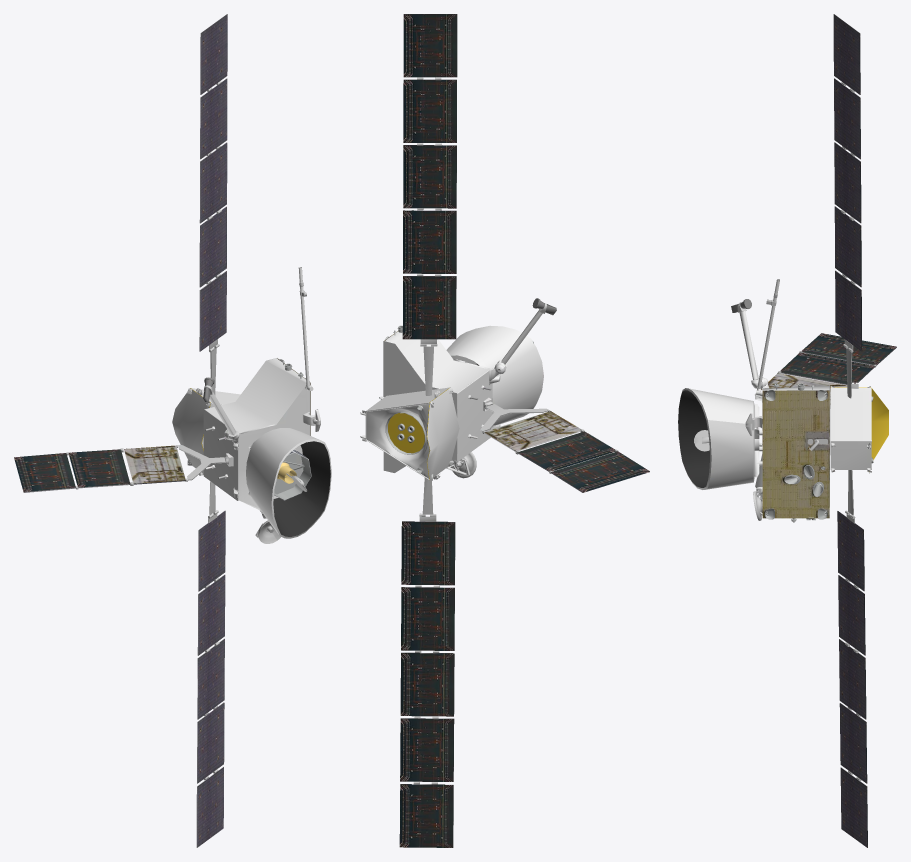
Rendered from bepicolombo.glb.
3 views of the same model, side by side, from view 1: azimuth 30°, elevation 25°; view 2: azimuth 150°, elevation 25°; view 3: azimuth 270°, elevation 25° (orthographic).
Visible parts, largest first — view 1: mesh01; view 2: mesh01; view 3: mesh01.
Part boxes in pixels (bbox=[...]): mesh01: bbox=[14, 14, 331, 847]; mesh01: bbox=[360, 14, 649, 847]; mesh01: bbox=[678, 14, 896, 847].
Size of the model in its own units: 510 by 1514 by 368.
1 material, 1 textured.
